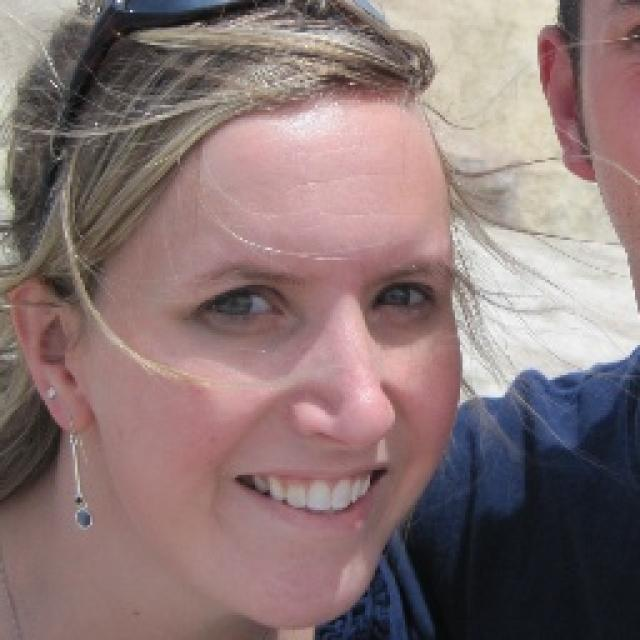earlobe: (47, 382, 96, 436), (559, 144, 594, 182)
eye: (205, 284, 285, 322), (374, 278, 436, 314)
nose: (296, 427, 388, 467)
wholeear: (5, 279, 96, 436), (535, 27, 595, 185)
